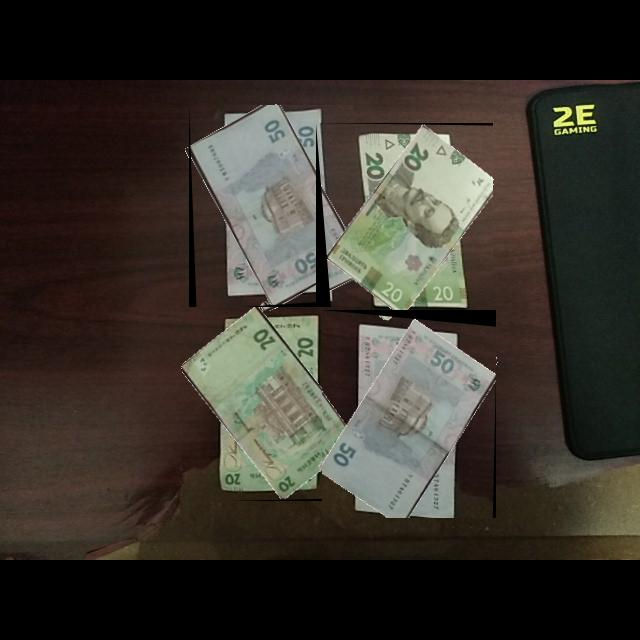20uah: (182, 307, 362, 500), (325, 125, 494, 315)
50uah: (322, 317, 497, 519), (190, 105, 354, 307)
